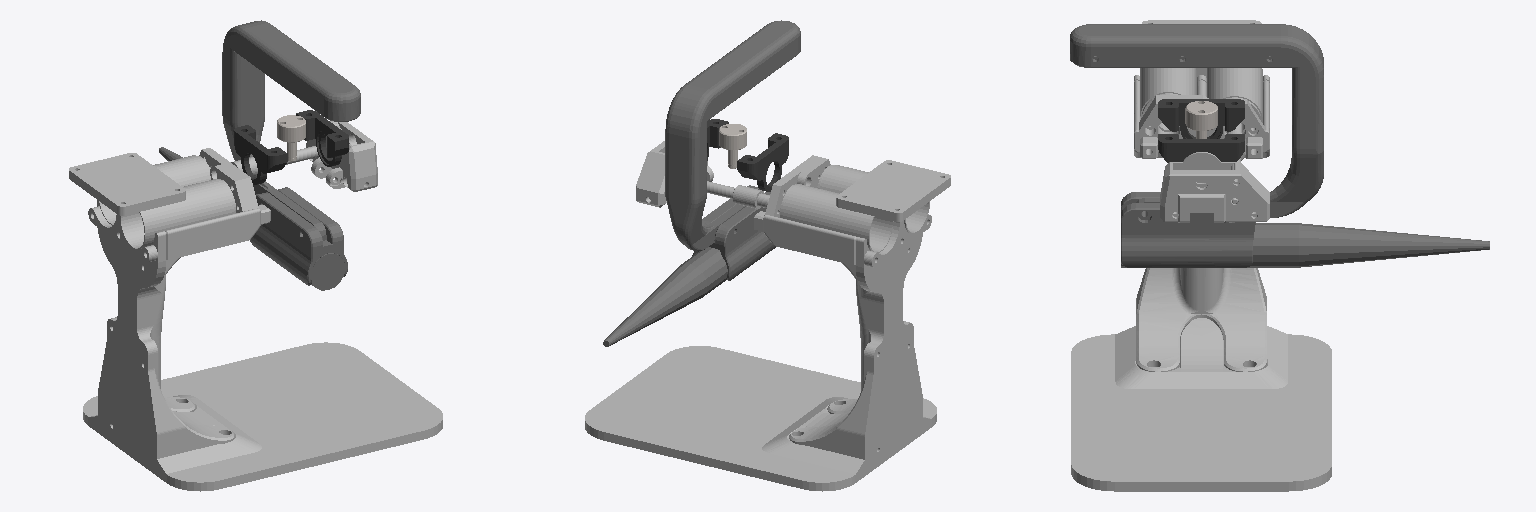
The robot description file, URDF, robot "signaturebot":
<?xml version="1.0" encoding="utf-8"?>

<robot
  name="signaturebot">
  <link name="world"/>

  <link
    name="base_link">
    <inertial>
      <origin
        xyz="0.043978 0.06035 0.0703"
        rpy="0 0 0" />
      <mass
        value="0.3524" />
      <inertia
        ixx="0.0003254"
        ixy="3.9578E-07"
        ixz="2.8883E-06"
        iyy="0.00040409"
        iyz="1.6475E-07"
        izz="0.00040678" />
    </inertial>
    <visual>
      <origin
        xyz="0 0 0"
        rpy="0 0 0" />
      <geometry>
        <mesh
          filename="package://fyp/meshes/collision/base_link.STL" />
      </geometry>
      <material
        name="">
        <color
          rgba="0.75294 0.75294 0.75294 1" />
      </material>
    </visual>
    <collision name="base_collision">
      <origin
        xyz="0 0 0"
        rpy="0 0 0" />
      <geometry>
        <mesh
          filename="package://fyp/meshes/collision/base_link.STL" />
      </geometry>
    </collision>
  </link>

  <joint name="fixed" type="fixed">
    <parent link="world"/>
    <child link="base_link"/>
    <origin rpy="0 0 0" xyz="0 0 0"/>
  </joint>

  <link
    name="pitch_link">
    <inertial>
      <origin
        xyz="1.5557E-05 0.0066616 -0.00013792"
        rpy="0 0 0" />
      <mass
        value="0.039657" />
      <inertia
        ixx="3.3195E-06"
        ixy="8.0677E-10"
        ixz="-1.6754E-10"
        iyy="5.9864E-06"
        iyz="1.8267E-10"
        izz="3.7559E-06" />
    </inertial>
    <visual>
      <origin
        xyz="0 0 0"
        rpy="0 0 0" />
      <geometry>
        <mesh
          filename="package://fyp/meshes/collision/pitch_link.STL" />
      </geometry>
      <material
        name="">
        <color
          rgba="0.29804 0.29804 0.29804 1" />
      </material>
    </visual>
    <collision name="pitch_collision">
      <origin
        xyz="0 0 0"
        rpy="0 0 0" />
      <geometry>
        <mesh
          filename="package://fyp/meshes/collision/pitch_link.STL" />
      </geometry>
    </collision>
  </link>

  <joint
    name="pitch"
    type="revolute">
    <origin
      xyz="0.096806 0.060005 0.15025"
      rpy="1.5708 0 1.5708" />
    <parent
      link="base_link" />
    <child
      link="pitch_link" />
    <axis
      xyz="0 0 1" />
    <limit
      lower="-3.14"
      upper="3.14"
      effort="100"
      velocity="1.0" />
    <dynamics
      damping="0.08"
      friction="0.05" />
  </joint>

  <transmission name="tran1">
    <type>transmission_interface/SimpleTransmission</type>
    <joint name="pitch">
      <hardwareInterface>hardware_interface/EffortJointInterface</hardwareInterface>
    </joint>
    <actuator name="motor1">
      <hardwareInterface>hardware_interface/EffortJointInterface</hardwareInterface>
      <mechanicalReduction>5</mechanicalReduction>
    </actuator>
  </transmission>

  <link
    name="yaw_link">
    <inertial>
      <origin
        xyz="0.010212 -0.02023 0.03871"
        rpy="0 0 0" />
      <mass
        value="0.17072" />
      <inertia
        ixx="6.5188E-05"
        ixy="8.0682E-06"
        ixz="-8.0047E-07"
        iyy="9.0376E-05"
        iyz="5.6188E-07"
        izz="0.00012972" />
    </inertial>
    <visual>
      <origin
        xyz="0 0 0"
        rpy="0 0 0" />
      <geometry>
        <mesh
          filename="package://fyp/meshes/collision/yaw_link.STL" />
      </geometry>
      <material
        name="">
        <color
          rgba="0.77647 0.75686 0.73725 1" />
      </material>
    </visual>
    <collision name="yaw_collision">
      <origin
        xyz="0 0 0"
        rpy="0 0 0" />
      <geometry>
        <mesh
          filename="package://fyp/meshes/collision/yaw_link.STL" />
      </geometry>
    </collision>
  </link>

  <joint
    name="yaw"
    type="revolute">
    <origin
      xyz="0 0 0"
      rpy="-1.5708 0 0" />
    <parent
      link="pitch_link" />
    <child
      link="yaw_link" />
    <axis
      xyz="0 0 -1" />
    <limit
      lower="-3.14"
      upper="3.14"
      effort="100"
      velocity="1.0" />
    <dynamics
      damping="0.08"
      friction="0.05" />
  </joint>

  <transmission name="tran2">
    <type>transmission_interface/SimpleTransmission</type>
    <joint name="yaw">
      <hardwareInterface>hardware_interface/EffortJointInterface</hardwareInterface>
    </joint>
    <actuator name="motor2">
      <hardwareInterface>hardware_interface/EffortJointInterface</hardwareInterface>
      <mechanicalReduction>10</mechanicalReduction>
    </actuator>
  </transmission>

  <link
    name="extension_link">
    <inertial>
      <origin
        xyz="0.0037892 -0.07262 0.0066716"
        rpy="0 0 0" />
      <mass
        value="0.13248" />
      <inertia
        ixx="0.00015884"
        ixy="-6.501E-08"
        ixz="-4.6699E-08"
        iyy="0.00012513"
        iyz="-2.127E-05"
        izz="4.3022E-05" />
    </inertial>
    <visual>
      <origin
        xyz="0 0 0"
        rpy="0 0 0" />
      <geometry>
        <mesh
          filename="package://fyp/meshes/collision/extension_link.STL" />
      </geometry>
      <material
        name="">
        <color
          rgba="0.49804 0.49804 0.49804 1" />
      </material>
    </visual>
    <collision name="extension_collision">
      <origin
        xyz="0 0 0"
        rpy="0 0 0" />
      <geometry>
        <mesh
          filename="package://fyp/meshes/collision/extension_link.STL" />
      </geometry>
    </collision>
  </link>

  <joint
    name="extension"
    type="prismatic">
    <origin
      xyz="0 4E-05 -0.050079"
      rpy="-1.5708 0 -1.5708" />
    <parent
      link="yaw_link" />
    <child
      link="extension_link" />
    <axis
      xyz="0 0 1" />
    <limit
      lower="0"
      upper="0.096"
      effort="100"
      velocity="0.5" />
    <dynamics
      damping="0.08"
      friction="0.05" />
  </joint>

  <transmission name="tran3">
    <type>transmission_interface/SimpleTransmission</type>
    <joint name="extension">
      <hardwareInterface>hardware_interface/EffortJointInterface</hardwareInterface>
    </joint>
    <actuator name="motor3">
      <hardwareInterface>hardware_interface/EffortJointInterface</hardwareInterface>
      <mechanicalReduction>0.03927</mechanicalReduction>
    </actuator>
  </transmission>

  <gazebo>
    <plugin name="control" filename='libgazebo_ros_control.so'>
      <robotNamespace>/signaturebot</robotNamespace>
    </plugin>
  </gazebo>

  <!--turn on self collisions for gazebo to detect mechanical interference-->
  <gazebo reference="base_link">
    <self_collide>1</self_collide>
  </gazebo>

  <gazebo reference="pitch_link">
    <self_collide>1</self_collide>
  </gazebo>

  <gazebo reference="yaw_link">
    <self_collide>1</self_collide>
  </gazebo>

  <gazebo reference="extension_link">
    <self_collide>1</self_collide>
  </gazebo>

  <!--create contact sensor for base_link to publish ContactState-->
  <gazebo reference="base_link">
    <sensor name="base_sensor" type="contact">
      <selfCollide>1</selfCollide>
      <alwaysOn>1</alwaysOn>
      <updateRate>15</updateRate>
      <contact>
         <collision>base_link_fixed_joint_lump__base_collision_collision</collision>
      </contact>
      <plugin name="contact_plugin" filename="libgazebo_ros_bumper.so">
        <bumperTopicName>collision_detection</bumperTopicName>
      </plugin>
    </sensor>
  </gazebo>

  <!--gazebo plugin that publishes JointState messages for all joints, works in conjuctiong with robot_state_publisher to give 3D robot state-->
  <gazebo>
    <plugin name="joint_state_publisher" filename="libgazebo_ros_joint_state_publisher.so">
      <jointName>pitch, yaw, extension</jointName>
      <robotNamespace>/signaturebot</robotNamespace>
      <updateRate>100.0</updateRate>
    </plugin>
  </gazebo>

</robot>

--- Render facts (derived) ---
Views: 3 orthographic renders of the robot side by side, from view 1: azimuth 30°, elevation 25°; view 2: azimuth 150°, elevation 25°; view 3: azimuth 270°, elevation 25°.
Model signaturebot with 5 links and 4 joints (2 revolute, 1 prismatic, 1 fixed), rooted at world, posed all joints at 0.
Links seen in each view (by area): view 1: base_link, extension_link, pitch_link, yaw_link; view 2: base_link, extension_link, pitch_link, yaw_link; view 3: base_link, extension_link, pitch_link, yaw_link.
Boxes of the visible links, bbox=[...] form: base_link: bbox=[69, 121, 442, 491]; extension_link: bbox=[159, 20, 360, 290]; pitch_link: bbox=[234, 110, 348, 184]; yaw_link: bbox=[277, 115, 305, 161]; base_link: bbox=[585, 141, 950, 491]; extension_link: bbox=[603, 20, 800, 346]; pitch_link: bbox=[707, 119, 788, 191]; yaw_link: bbox=[719, 124, 746, 168]; base_link: bbox=[1071, 20, 1331, 491]; extension_link: bbox=[1070, 24, 1489, 267]; pitch_link: bbox=[1158, 99, 1244, 162]; yaw_link: bbox=[1185, 101, 1217, 138].
Size in the robot's own frame: 0.18 by 0.1933 by 0.2042 metres.
4 mesh visuals loaded from 4 distinct referenced files (4 binary STL).